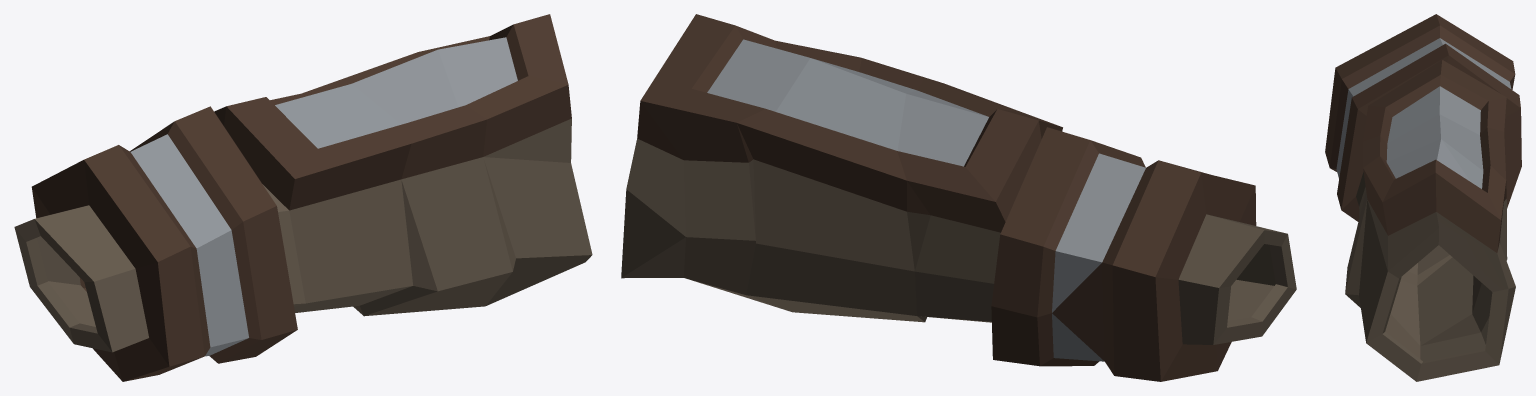
File: Chr_ArmLowerRight_Female_10_Drop.fbx
3 renders of one model, left to right at view 1: azimuth 30°, elevation 25°; view 2: azimuth 150°, elevation 25°; view 3: azimuth 270°, elevation 25°, orthographic. The views are drawn at different scales.
Visible parts, largest first — view 1: Chr_ArmLowerRight_Female_10_Static; view 2: Chr_ArmLowerRight_Female_10_Static; view 3: Chr_ArmLowerRight_Female_10_Static.
Boxes of the visible parts, x1,y1,x2,y2 form: Chr_ArmLowerRight_Female_10_Static: (14,14,592,381); Chr_ArmLowerRight_Female_10_Static: (621,14,1296,381); Chr_ArmLowerRight_Female_10_Static: (1325,14,1521,381).
Size of the model in its own units: 29.44 by 13.56 by 11.22.
